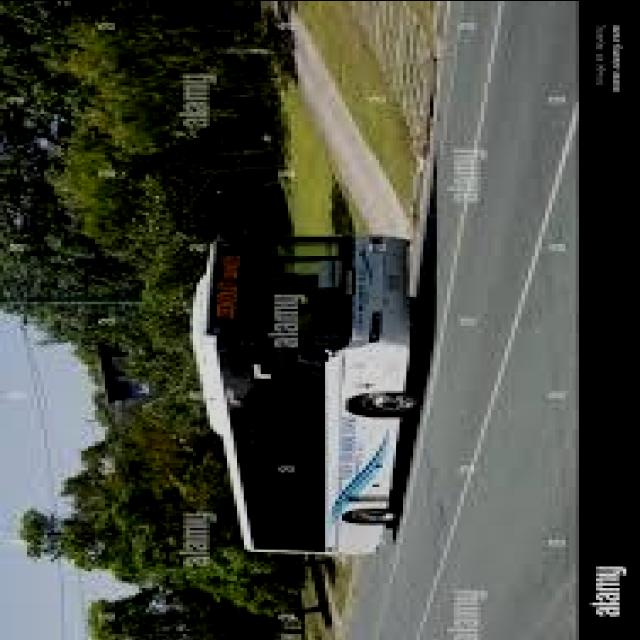bus: (193, 220, 447, 566)
